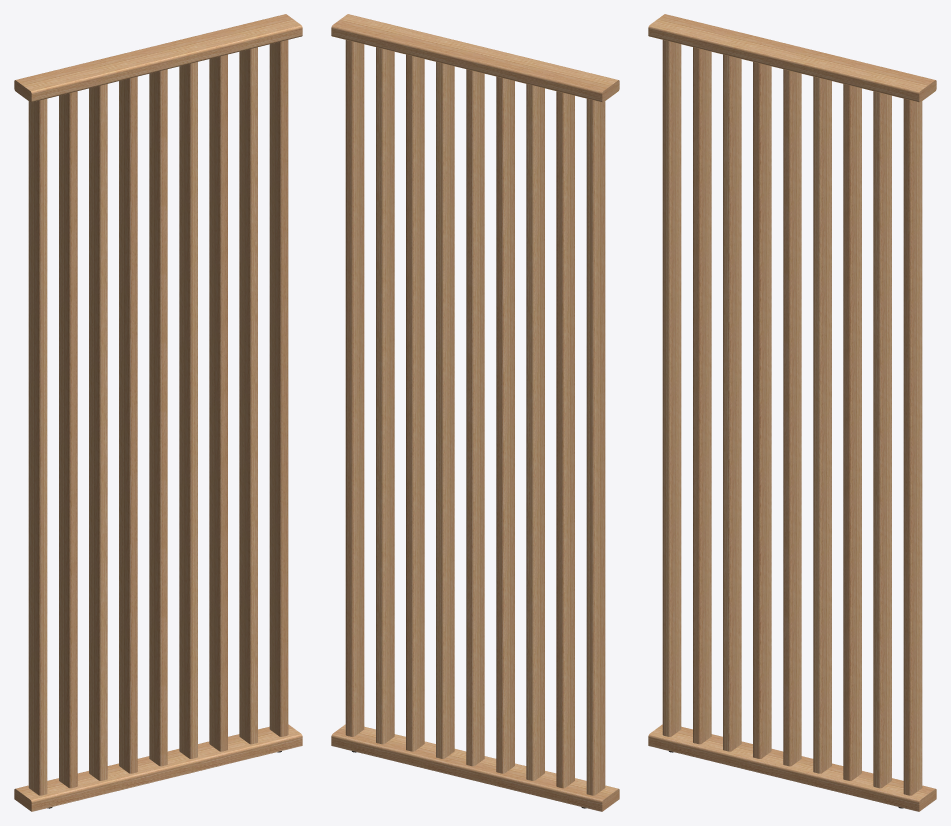
File: Furniture_Office-Dividers-Screens_Karl-Andersson-Soner_Ray-Room-divider-Straight.fbx
3 renders of one model, left to right at view 1: azimuth 30°, elevation 25°; view 2: azimuth 150°, elevation 25°; view 3: azimuth 330°, elevation 25°, orthographic.
Parts seen in each view (by area): view 1: L_b1c6992d_b80b_4b13_a56b_0b22e75307b7_C1_I5, L_0690ee29_40e6_433b_8aa9_28c98eca0b5f_C1_I1, L_9fb07a92_7212_43f0_af9f_6d213b608e92_C1_I4; view 2: L_b1c6992d_b80b_4b13_a56b_0b22e75307b7_C1_I5, L_0690ee29_40e6_433b_8aa9_28c98eca0b5f_C1_I1, L_9fb07a92_7212_43f0_af9f_6d213b608e92_C1_I4; view 3: L_b1c6992d_b80b_4b13_a56b_0b22e75307b7_C1_I5, L_0690ee29_40e6_433b_8aa9_28c98eca0b5f_C1_I1, L_9fb07a92_7212_43f0_af9f_6d213b608e92_C1_I4.
Boxes of the visible parts, box(x1,y1,x2,y2) form: L_b1c6992d_b80b_4b13_a56b_0b22e75307b7_C1_I5: box(28, 40, 288, 795); L_0690ee29_40e6_433b_8aa9_28c98eca0b5f_C1_I1: box(14, 14, 302, 102); L_9fb07a92_7212_43f0_af9f_6d213b608e92_C1_I4: box(14, 724, 302, 811); L_b1c6992d_b80b_4b13_a56b_0b22e75307b7_C1_I5: box(345, 40, 605, 795); L_0690ee29_40e6_433b_8aa9_28c98eca0b5f_C1_I1: box(331, 14, 619, 102); L_9fb07a92_7212_43f0_af9f_6d213b608e92_C1_I4: box(331, 724, 619, 811); L_b1c6992d_b80b_4b13_a56b_0b22e75307b7_C1_I5: box(662, 40, 922, 795); L_0690ee29_40e6_433b_8aa9_28c98eca0b5f_C1_I1: box(648, 14, 936, 102); L_9fb07a92_7212_43f0_af9f_6d213b608e92_C1_I4: box(648, 724, 936, 811).
Bounding box in the file's own units: 630 × 70 × 1606.
Materials: 3 (1 with a texture image).
